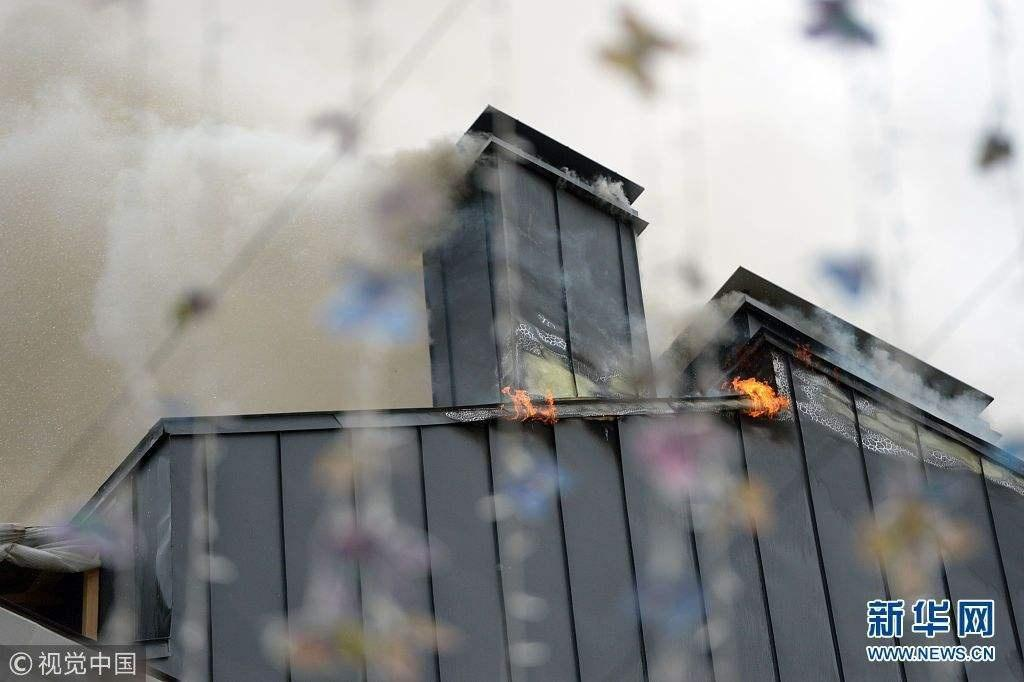fire: (712, 344, 796, 432), (495, 376, 562, 424)
